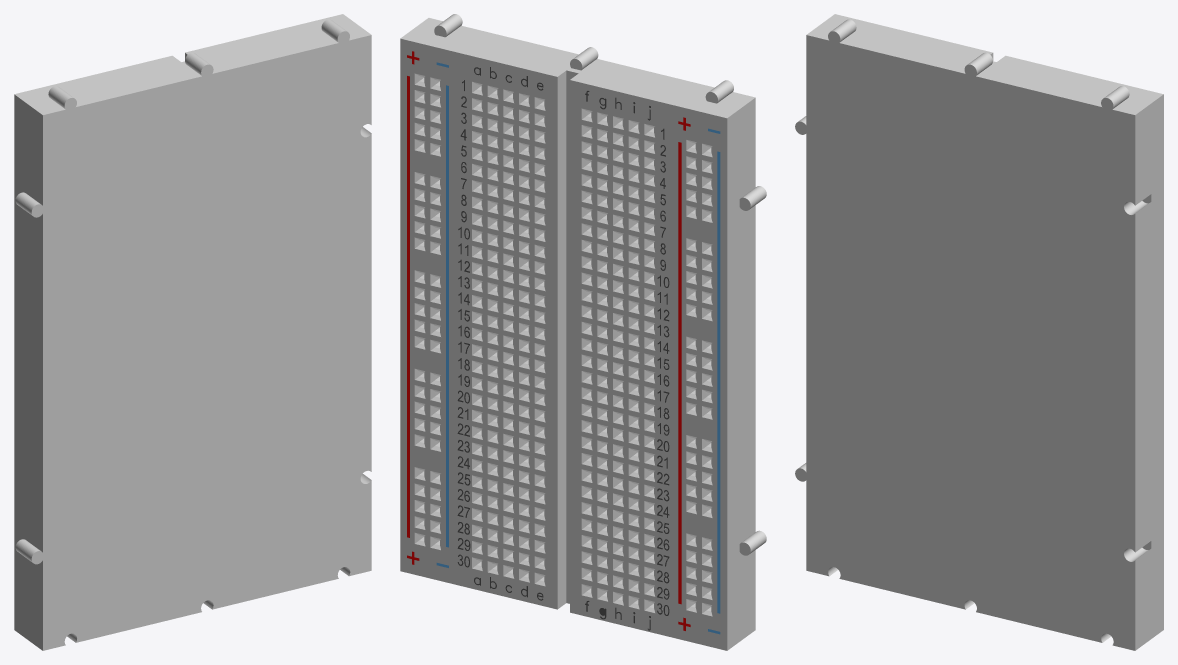
The model's file is Half-Size+Breadboard.glb.
The picture shows the model from 3 angles, left to right: view 1: azimuth 30°, elevation 25°; view 2: azimuth 150°, elevation 25°; view 3: azimuth 330°, elevation 25°; orthographic projection.
Parts seen in each view (by area): view 1: Node3, Node2, Node4, Node6, Node1; view 2: Node2, Node6, Node1, Node4, Node3, Node5, Node8, Node7; view 3: Node3, Node1, Node4, Node6, Node2.
Part boxes in pixels (x1,y1,x2,y2): Node3: [15, 31, 371, 650]; Node2: [14, 19, 366, 650]; Node4: [22, 27, 371, 551]; Node6: [14, 14, 371, 642]; Node1: [15, 52, 371, 562]; Node2: [414, 14, 760, 650]; Node6: [400, 18, 755, 650]; Node1: [414, 47, 766, 637]; Node4: [414, 31, 759, 614]; Node3: [414, 25, 766, 615]; Node5: [457, 67, 669, 630]; Node8: [407, 51, 690, 630]; Node7: [436, 62, 720, 634]; Node3: [795, 31, 1135, 650]; Node1: [798, 52, 1163, 650]; Node4: [801, 27, 1148, 642]; Node6: [806, 14, 1163, 114]; Node2: [801, 19, 1151, 214].
Size of the model in its own units: 54.8 by 84.1 by 8.
